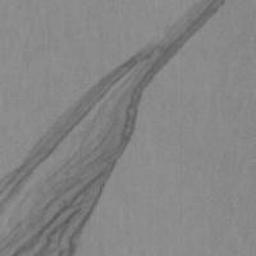Water spot: (0, 0, 230, 256)
